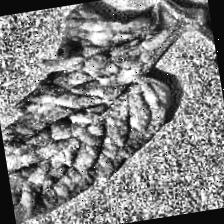leaf mold: (0, 0, 188, 224)
